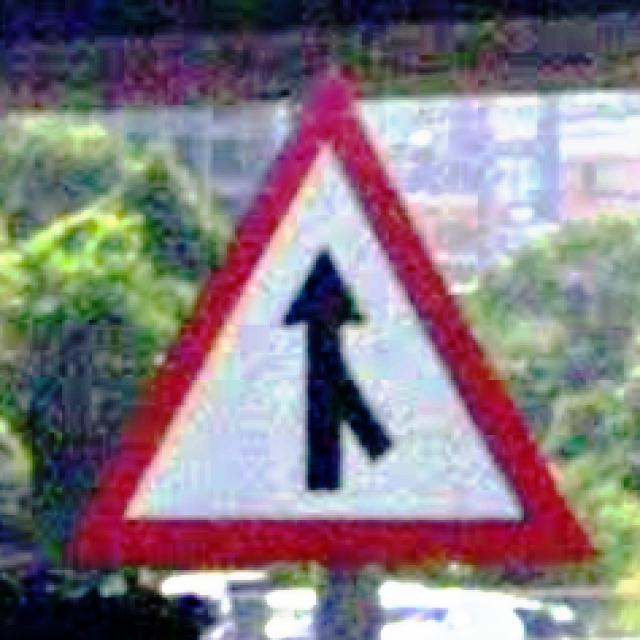rightmerge: (63, 64, 592, 562)
